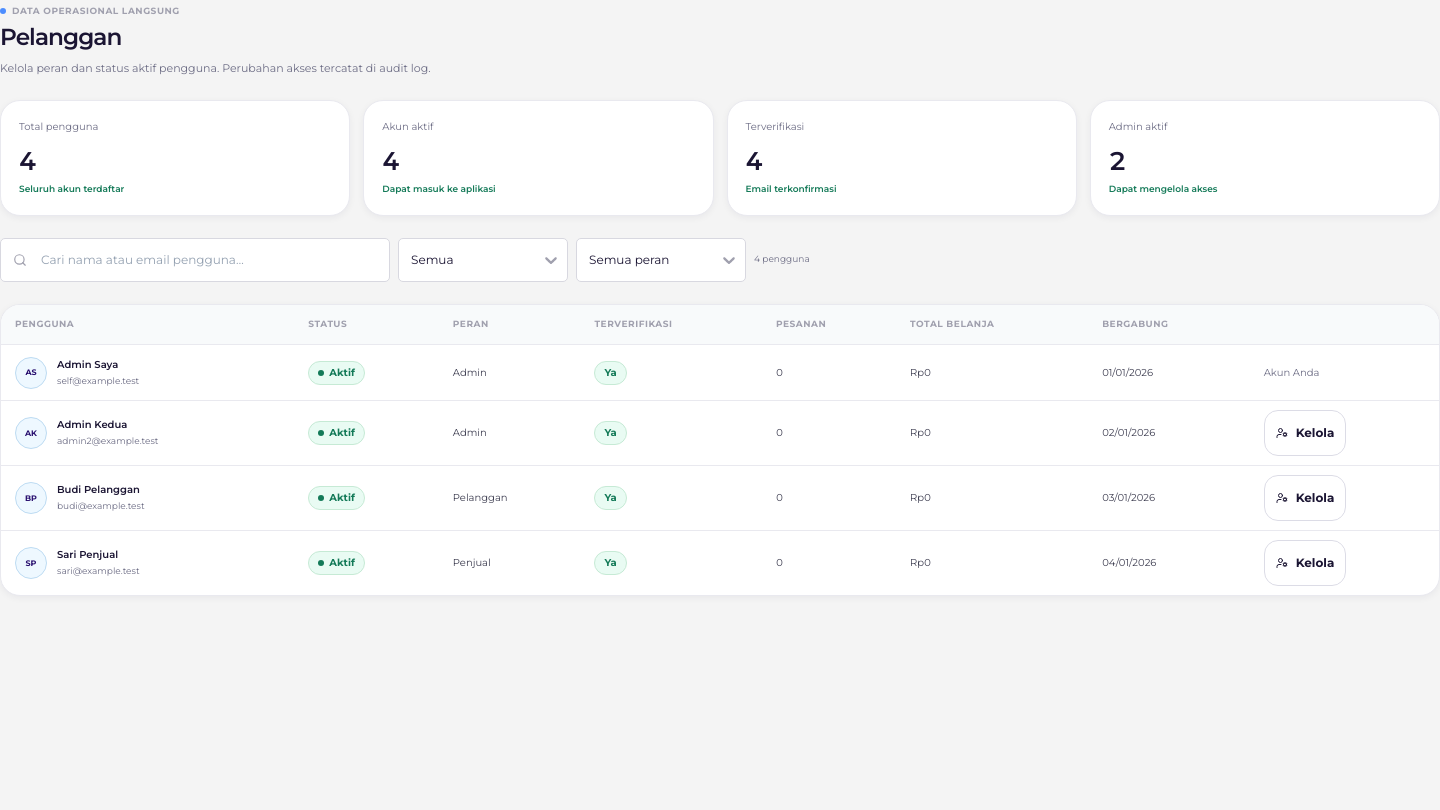
Test: manajemen akses pengguna di /dashboard/customers › meminta konfirmasi sebelum mengubah role lalu memuat ulang daftar
Expected: the text "Budi Pelanggan" is shown, [57, 483, 140, 496]
Click the button with aria-label "Kelola akses Budi Pelanggan": (1305, 498) [1264, 475, 1346, 521]
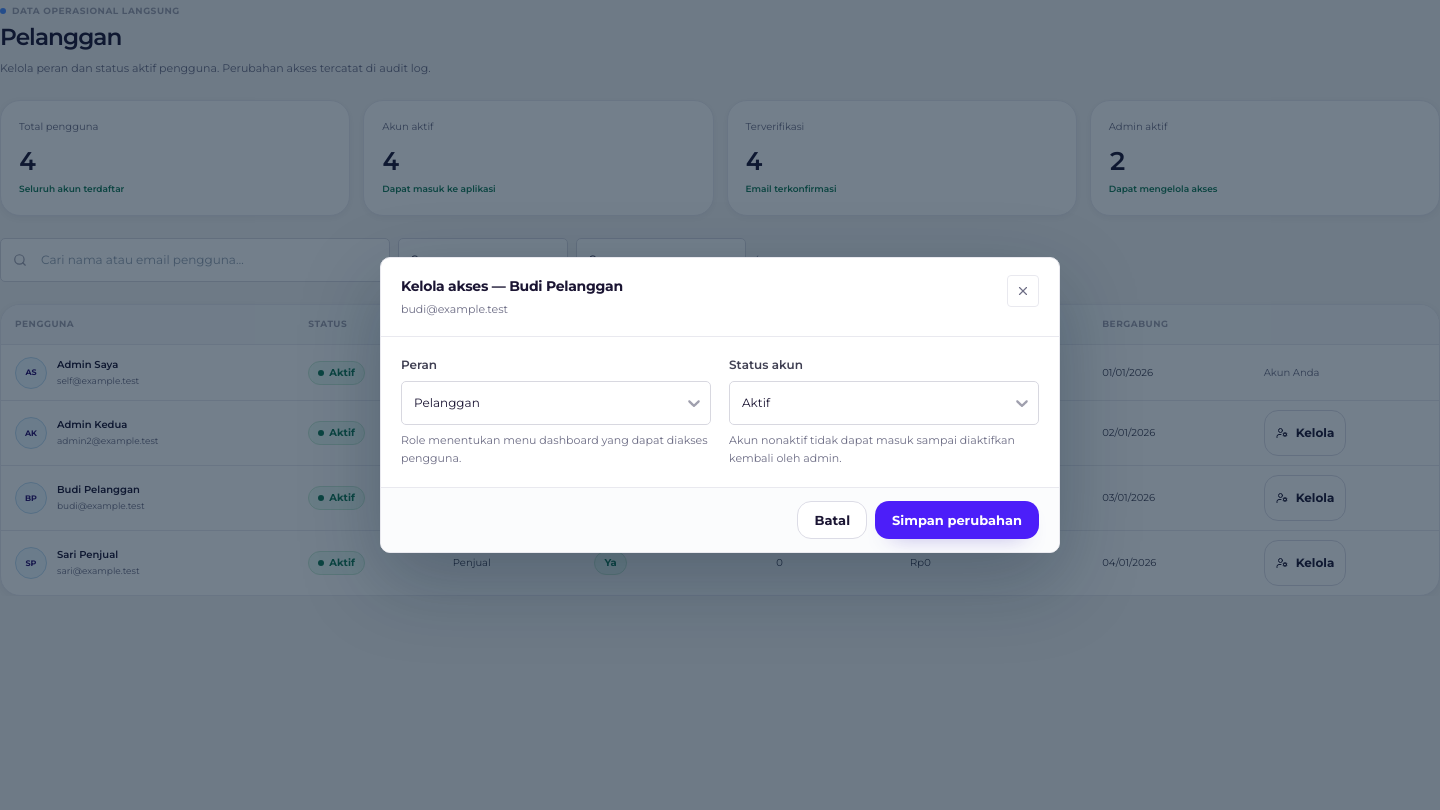
Focus the dropdown labelled "Peran": (414, 403) [412, 393, 415, 413]
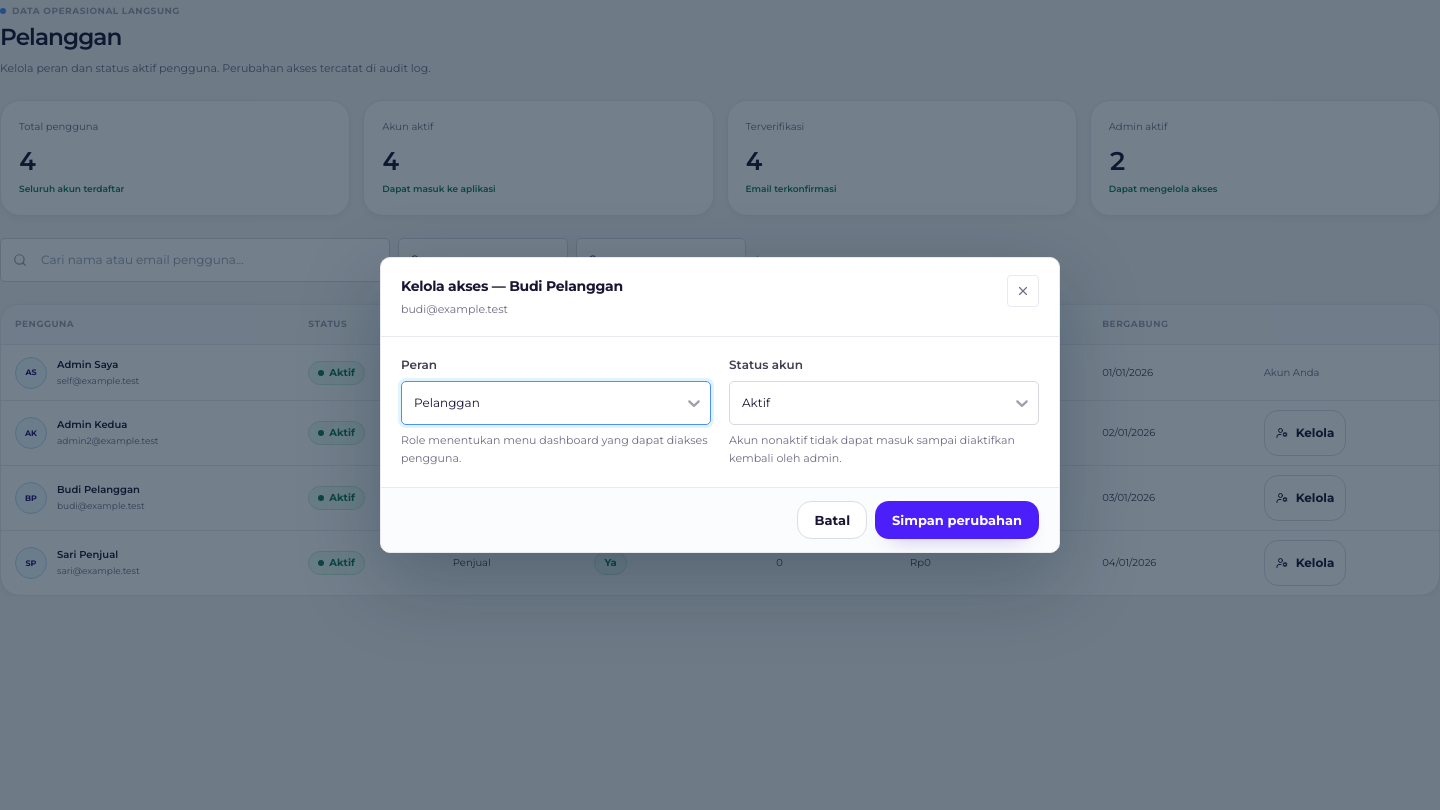
Press ArrowDown in the dropdown labelled "Peran", box [412, 393, 415, 413]
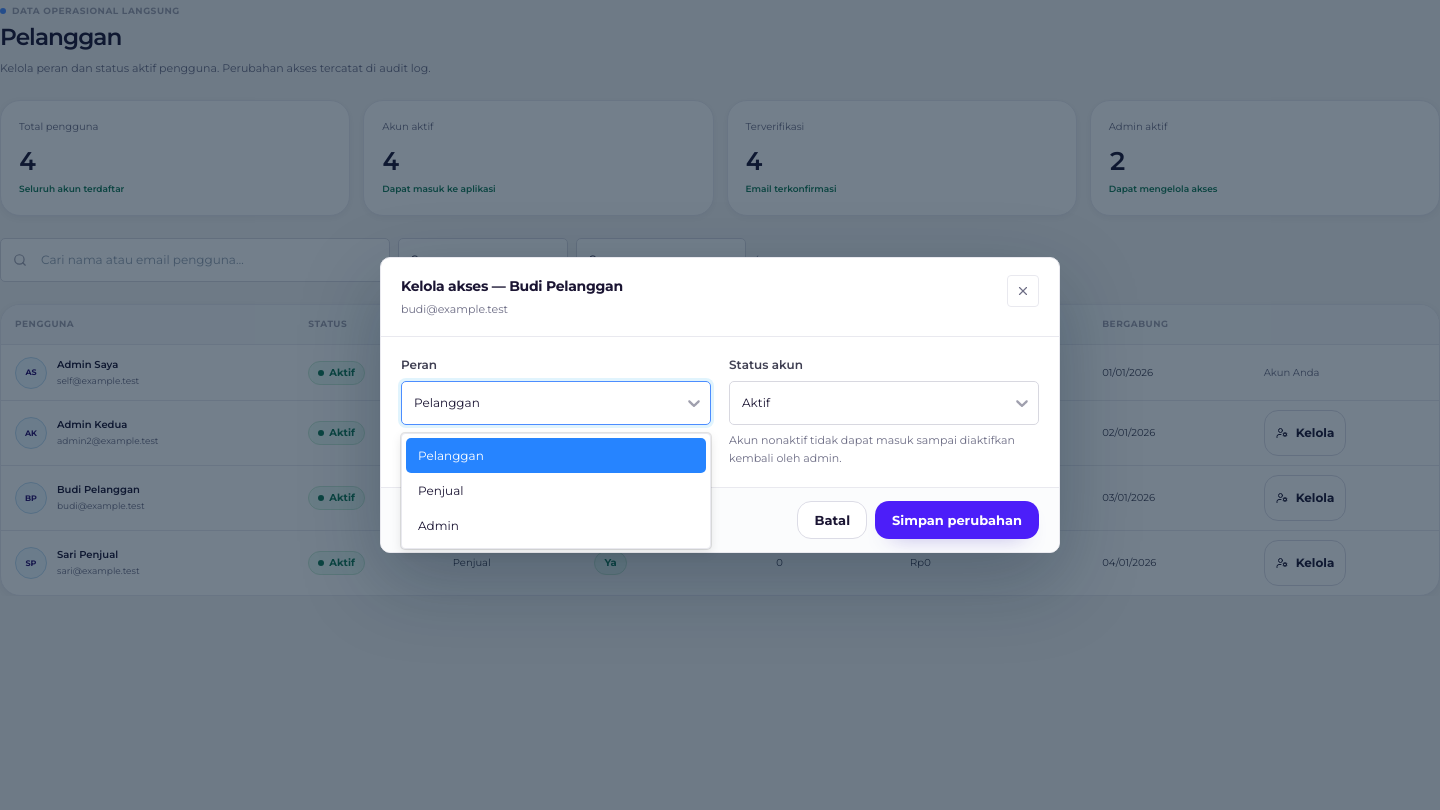
Click the option "Admin": (438, 526) [418, 518, 459, 533]
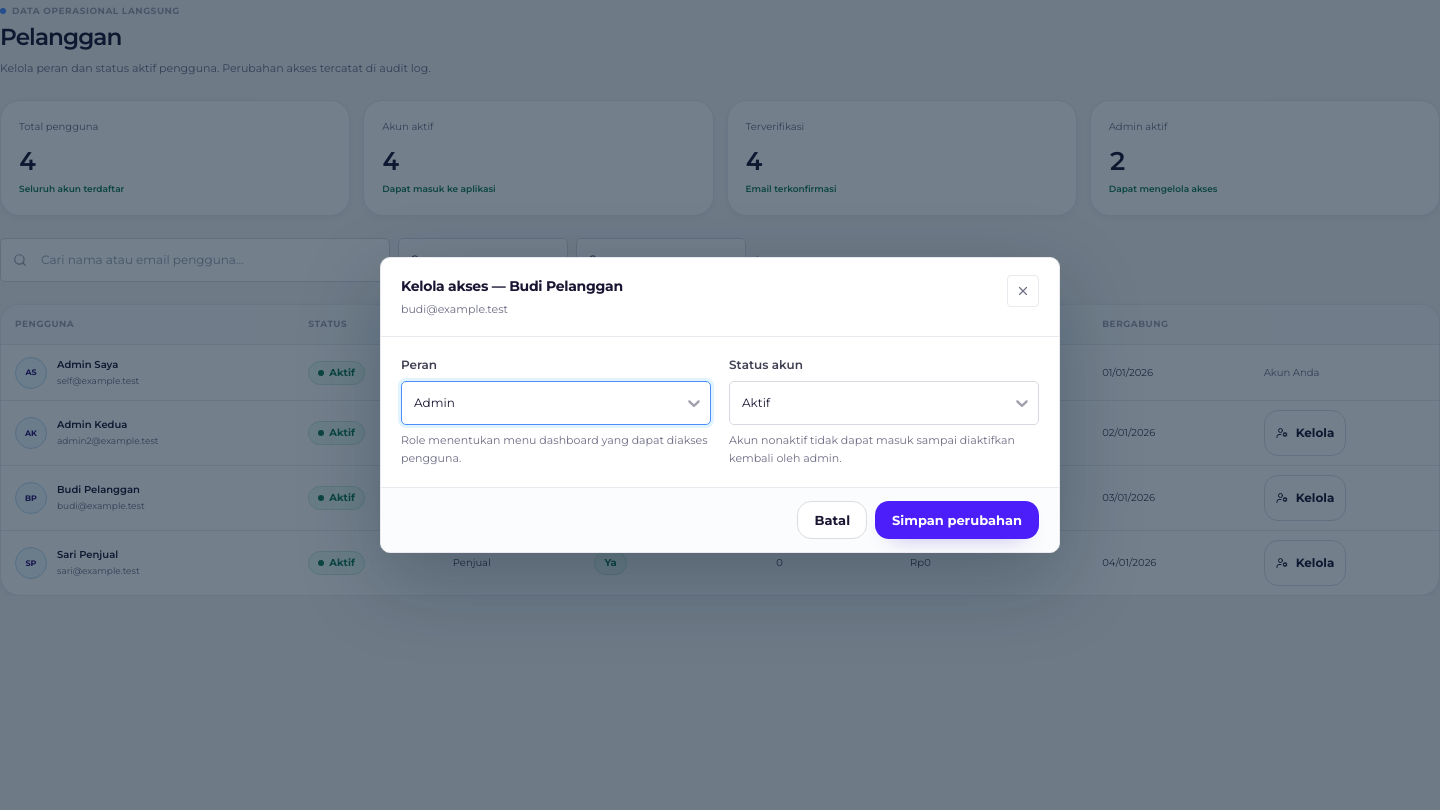
Click the button "Simpan perubahan": (957, 520) [875, 501, 1039, 539]
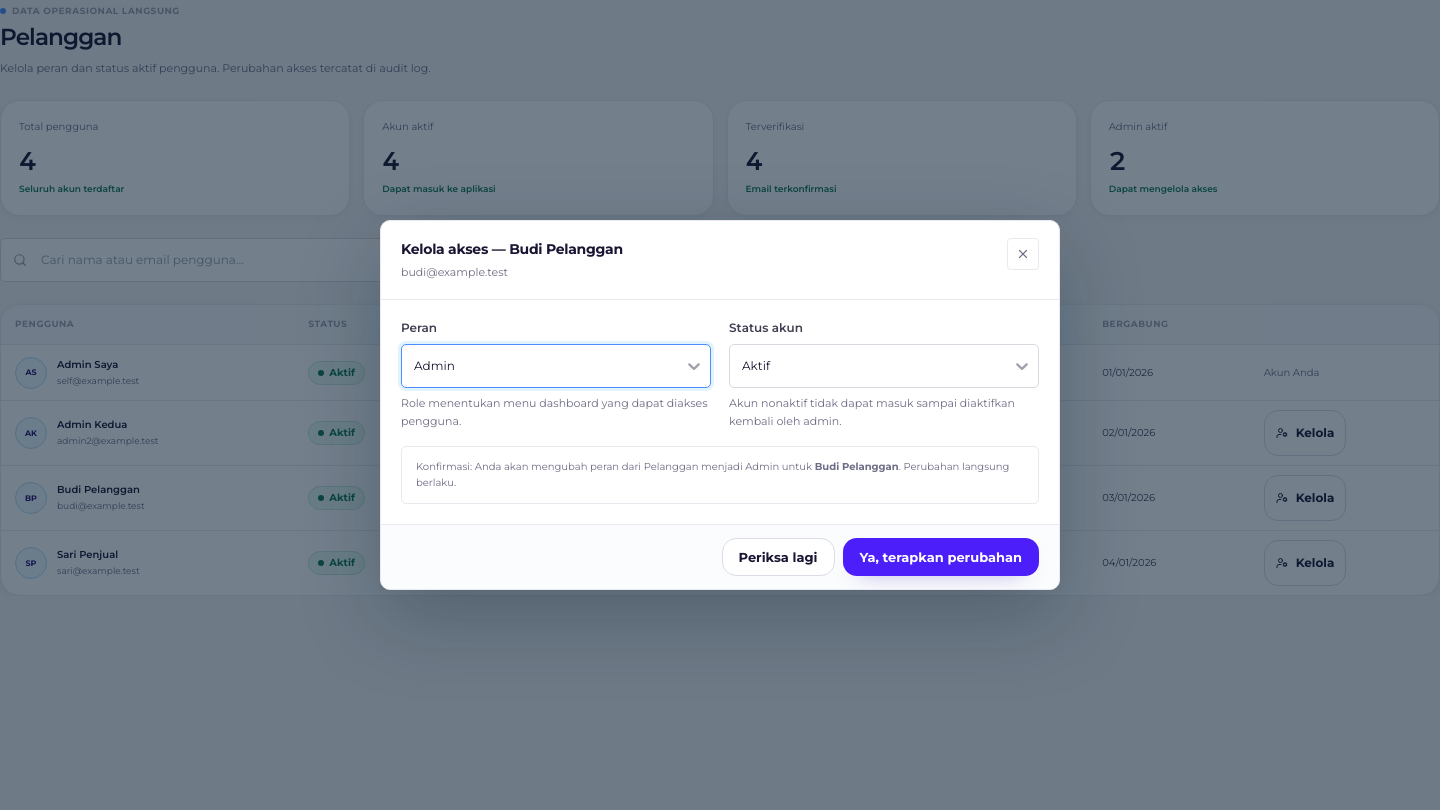
Expected: the text "Konfirmasi: Anda akan mengubah peran dari Pelanggan menjadi Admin" is shown, [401, 446, 1039, 504]
Click the button "Ya, terapkan perubahan": (941, 557) [842, 538, 1039, 576]
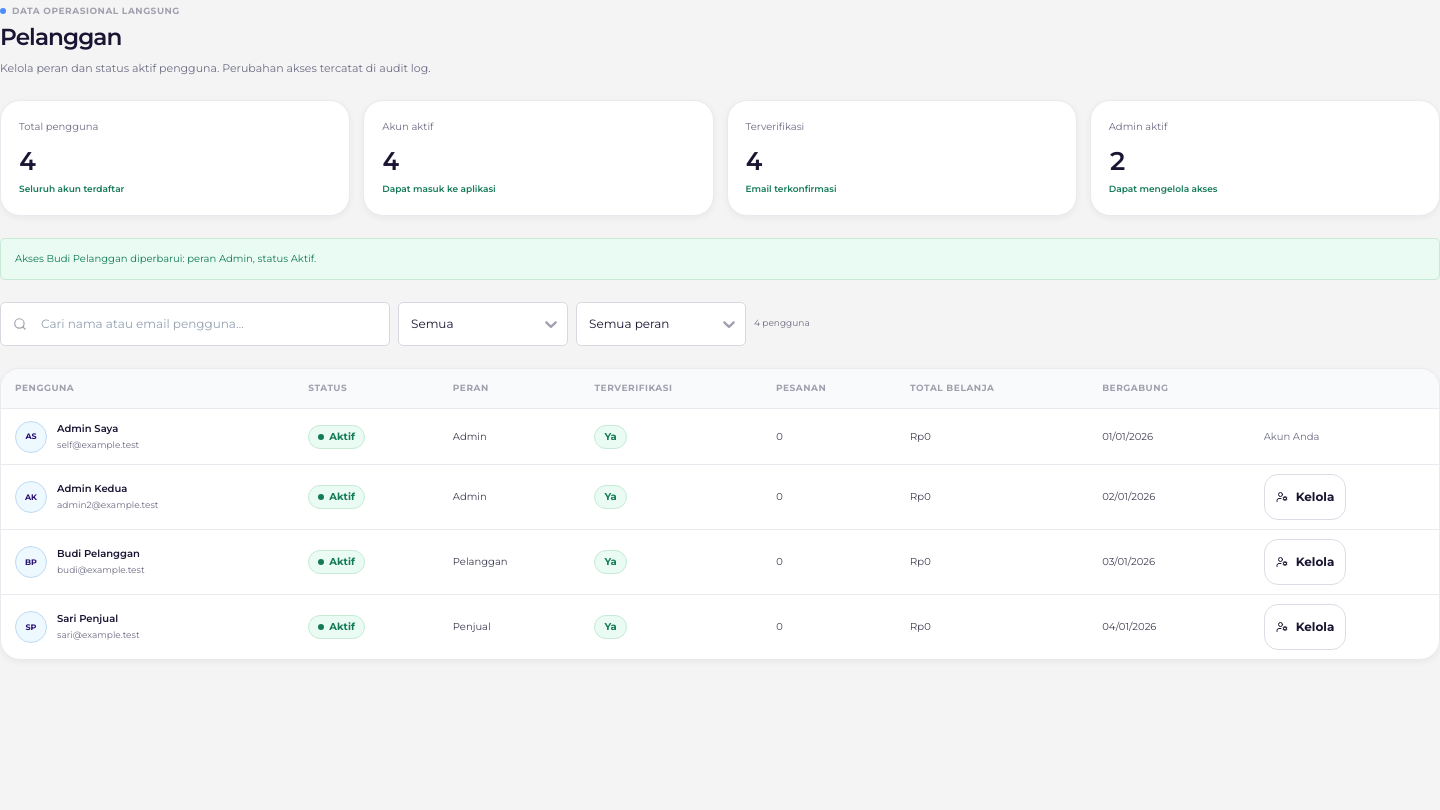
Expected: the text "Akses Budi Pelanggan diperbarui: peran Admin, status Aktif." is shown, [0, 238, 1439, 280]
